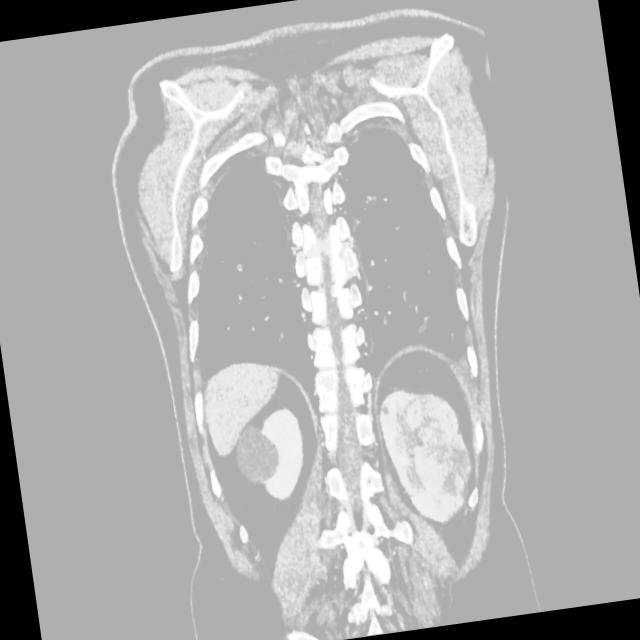TUMOR: (182, 303, 559, 564)
